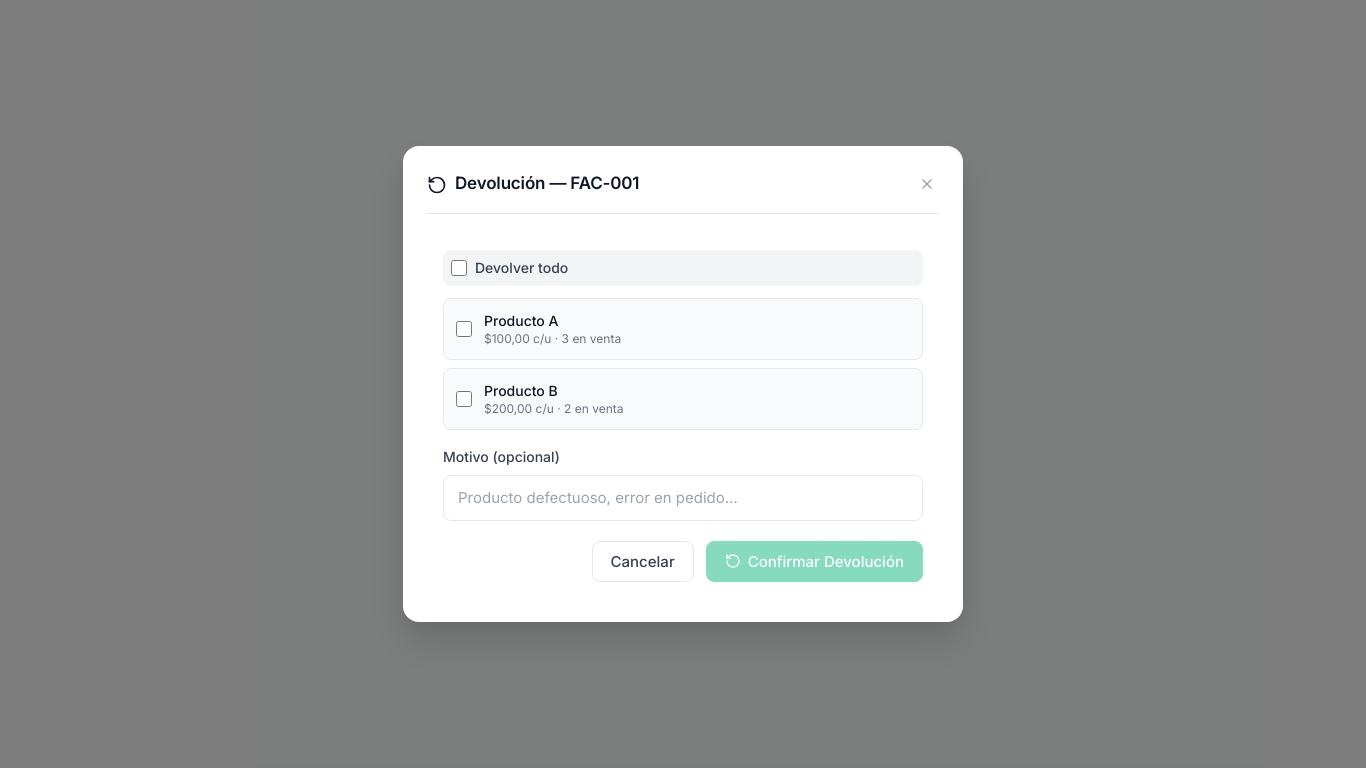
Test: ReturnModal › seleccionar un item actualiza la cantidad disponible y muestra total
// Marca el primer item (Producto A)
Click the checkbox next to "Producto A" at (464, 329), box [456,321,472,337]
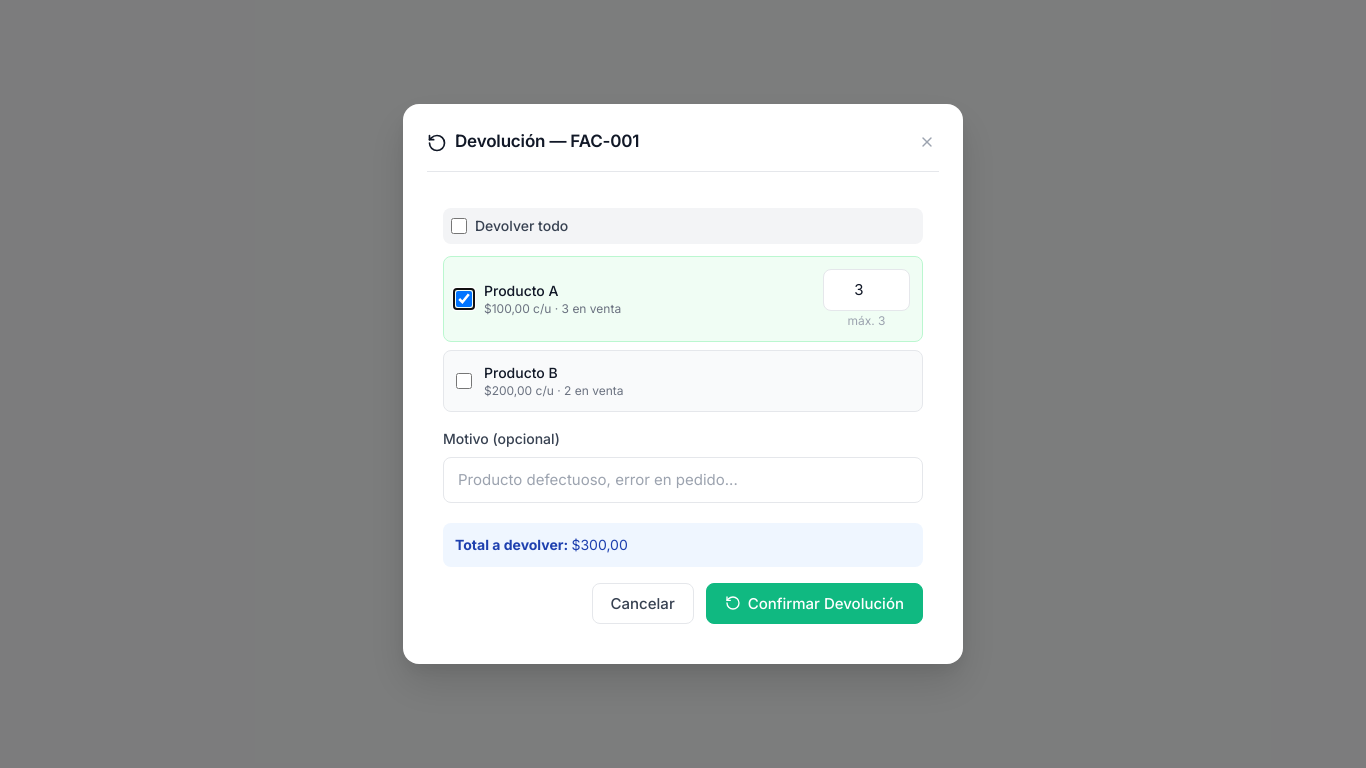
Result: the number field holds "3" at [823,269,910,311]
Result: the text "Total a devolver:" is shown at [455,536,572,553]
